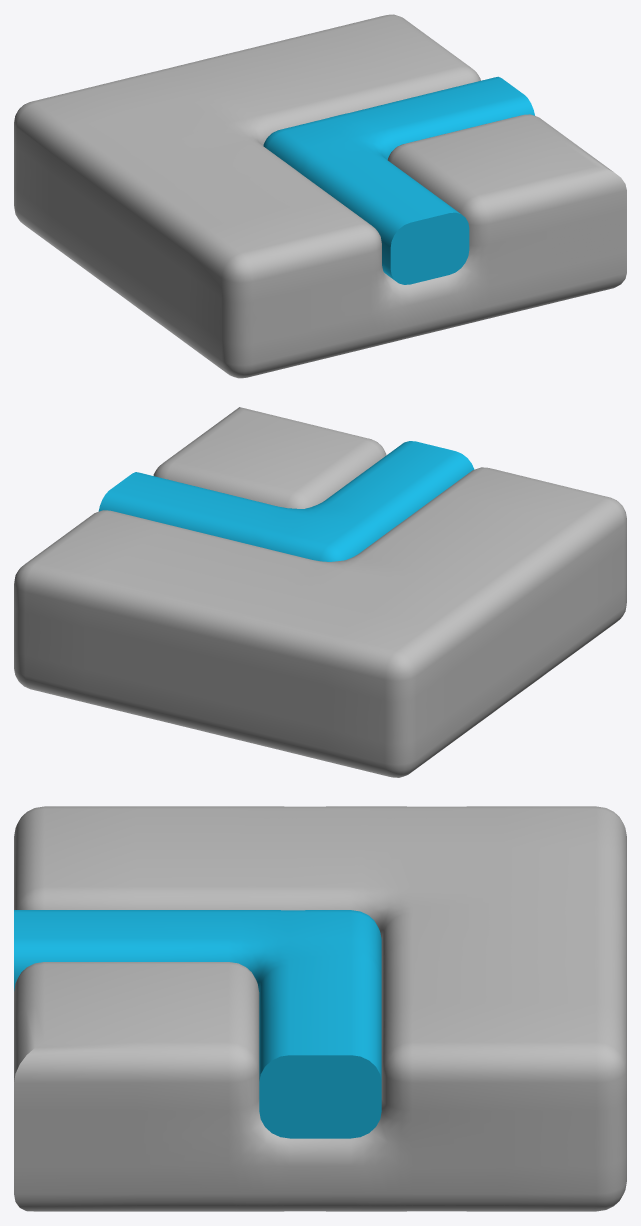
The model's file is Piso 2.fbx.
3 views of the same model, one above another, from view 1: azimuth 30°, elevation 25°; view 2: azimuth 150°, elevation 25°; view 3: azimuth 270°, elevation 25° (orthographic). The views are drawn at different scales.
Parts seen in each view (by area): view 1: Piso 2; view 2: Piso 2; view 3: Piso 2.
Part boxes in pixels (bbox=[...]): Piso 2: bbox=[14, 14, 626, 378]; Piso 2: bbox=[14, 407, 626, 777]; Piso 2: bbox=[14, 806, 626, 1211].
Size of the model in its own units: 200 by 60 by 200.
